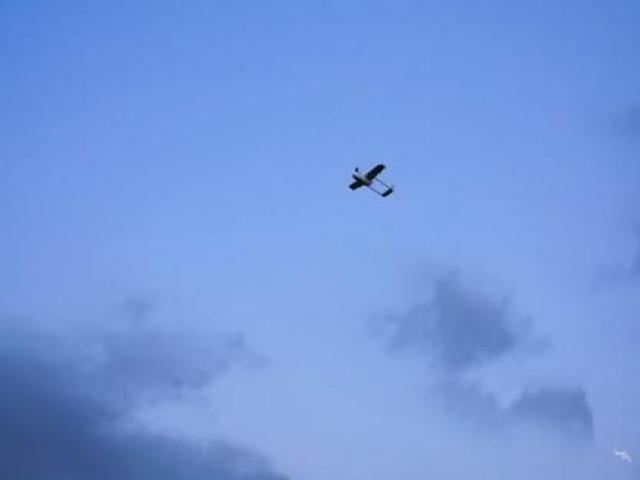uav: (346, 162, 396, 200)
